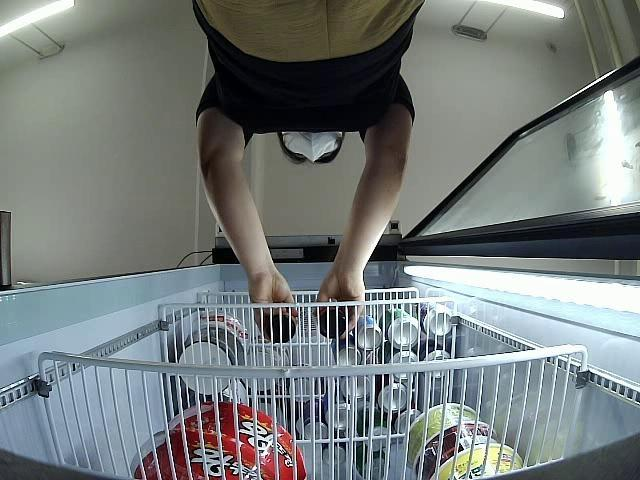17_vita500: (264, 308, 296, 341), (320, 306, 346, 338)
